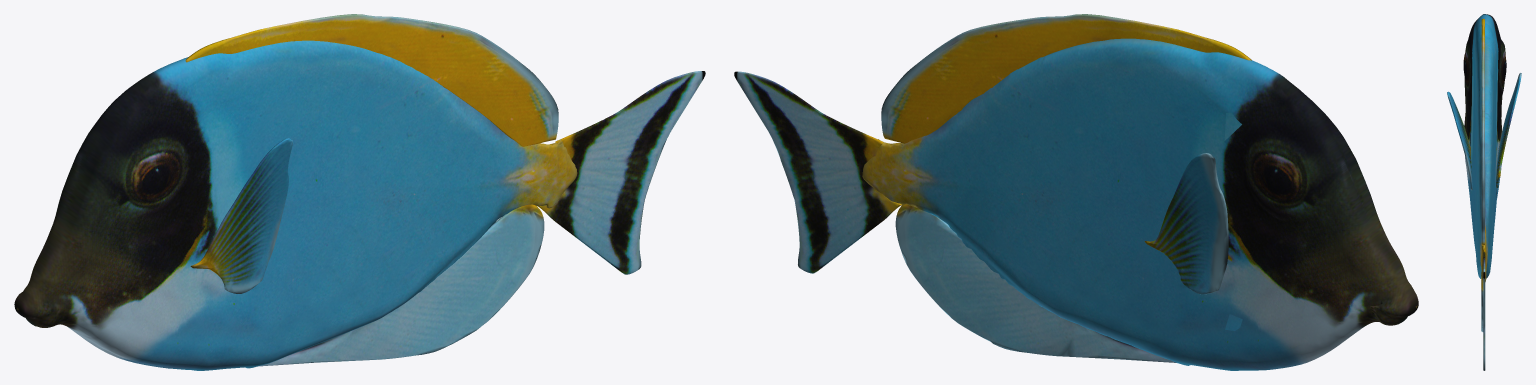
Rendered from ambly.fbx.
3 renders of one model, left to right at view 1: azimuth 30°, elevation 25°; view 2: azimuth 150°, elevation 25°; view 3: azimuth 270°, elevation 25°, orthographic. The views are drawn at different scales.
Parts seen in each view (by area): view 1: AMBBODY, AMBCAUD, AMBBAJA, AMBCOLA, AMBALE0; view 2: AMBBODY, AMBCAUD, AMBCOLA, AMBBAJA, AMBALE; view 3: AMBBODY, AMBCAUD, AMBALE, AMBALE0, AMBCOLA, AMBBAJA.
Boxes of the visible parts, <box> form: AMBBODY: <box>14,40,577,370</box>; AMBCAUD: <box>185,14,558,146</box>; AMBBAJA: <box>257,204,544,366</box>; AMBCOLA: <box>538,71,705,274</box>; AMBALE0: <box>190,138,292,293</box>; AMBBODY: <box>862,38,1418,370</box>; AMBCAUD: <box>881,14,1251,143</box>; AMBCOLA: <box>734,71,901,273</box>; AMBBAJA: <box>895,204,1176,362</box>; AMBALE: <box>1144,153,1228,294</box>; AMBBODY: <box>1463,14,1506,288</box>; AMBCAUD: <box>1481,18,1484,245</box>; AMBALE: <box>1496,73,1521,187</box>; AMBALE0: <box>1447,91,1472,190</box>; AMBCOLA: <box>1483,248,1485,370</box>; AMBBAJA: <box>1481,272,1483,331</box>.
Bounding box in the file's own units: 1222 × 619 × 177.
